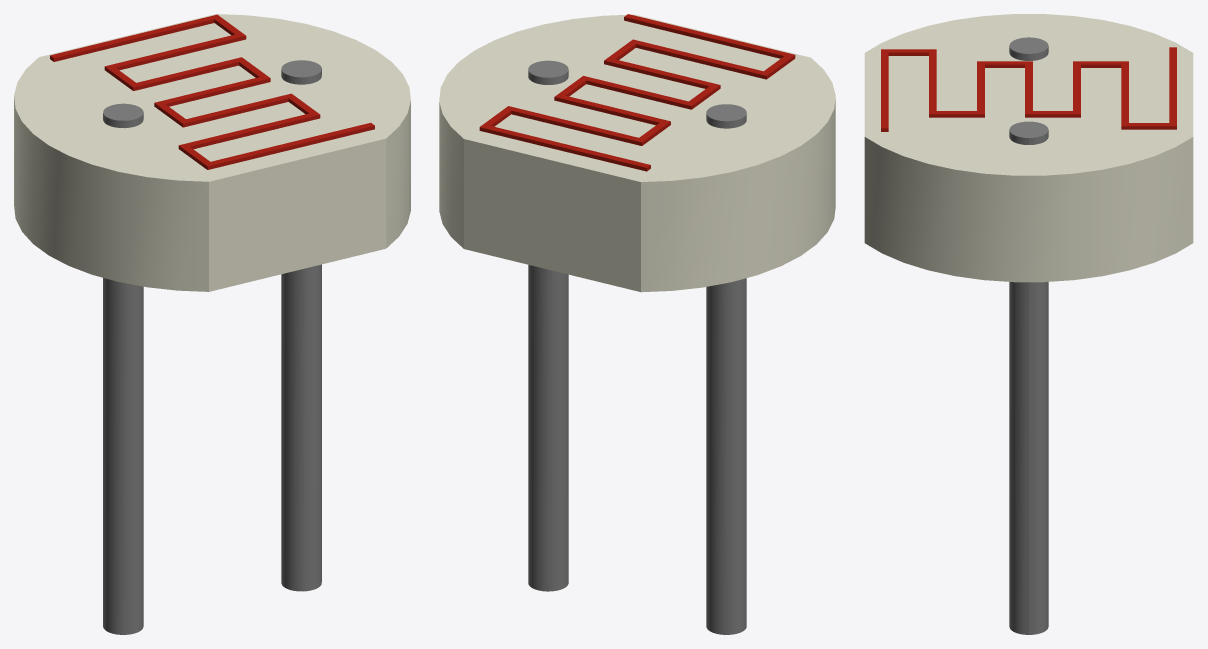
The model's file is kc-r_ldr_4.9x4.2mm_p2.54mm_vertical.glb.
3 renders of one model, left to right at view 1: azimuth 30°, elevation 25°; view 2: azimuth 150°, elevation 25°; view 3: azimuth 270°, elevation 25°, orthographic. The views are drawn at different scales.
Parts seen in each view (by area): view 1: 0.75_0.75_0.6666666666666666_0, 0.25_0.25_0.25_0, 0.4166666666666667_0_0_0; view 2: 0.75_0.75_0.6666666666666666_0, 0.25_0.25_0.25_0, 0.4166666666666667_0_0_0; view 3: 0.75_0.75_0.6666666666666666_0, 0.25_0.25_0.25_0, 0.4166666666666667_0_0_0.
Part boxes in pixels (bbox=[...]): 0.75_0.75_0.6666666666666666_0: bbox=[14, 14, 410, 291]; 0.25_0.25_0.25_0: bbox=[103, 60, 321, 634]; 0.4166666666666667_0_0_0: bbox=[50, 14, 374, 169]; 0.75_0.75_0.6666666666666666_0: bbox=[439, 14, 835, 292]; 0.25_0.25_0.25_0: bbox=[528, 60, 746, 634]; 0.4166666666666667_0_0_0: bbox=[479, 14, 795, 171]; 0.75_0.75_0.6666666666666666_0: bbox=[864, 14, 1193, 282]; 0.25_0.25_0.25_0: bbox=[1009, 37, 1048, 634]; 0.4166666666666667_0_0_0: bbox=[881, 47, 1176, 131].
Bounding box in the file's own units: 0.4885 × 0.7 × 0.42.
